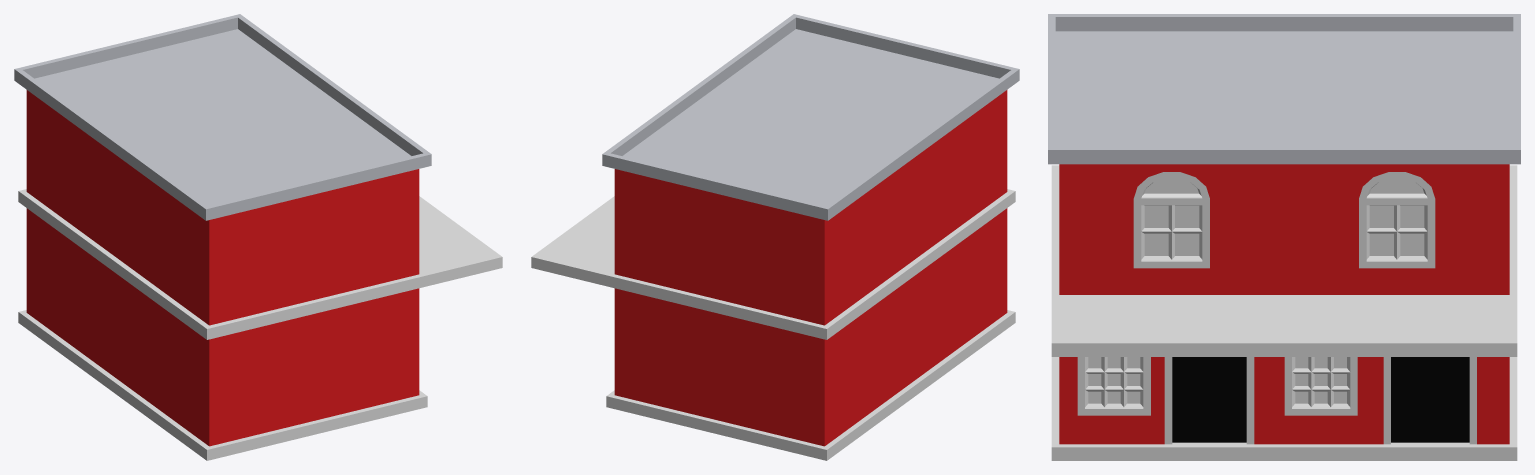
The model's file is Building 3.fbx.
The picture shows the model from 3 angles, left to right: view 1: azimuth 30°, elevation 25°; view 2: azimuth 150°, elevation 25°; view 3: azimuth 270°, elevation 25°; orthographic projection. The views are drawn at different scales.
Visible parts, largest first — view 1: building_003; view 2: building_003; view 3: building_003.
Part boxes in pixels (x1,y1,x2,y2): building_003: (14,14,502,460); building_003: (531,14,1019,460); building_003: (1048,14,1520,460).
Bounding box in the file's own units: 568 × 461 × 632.
